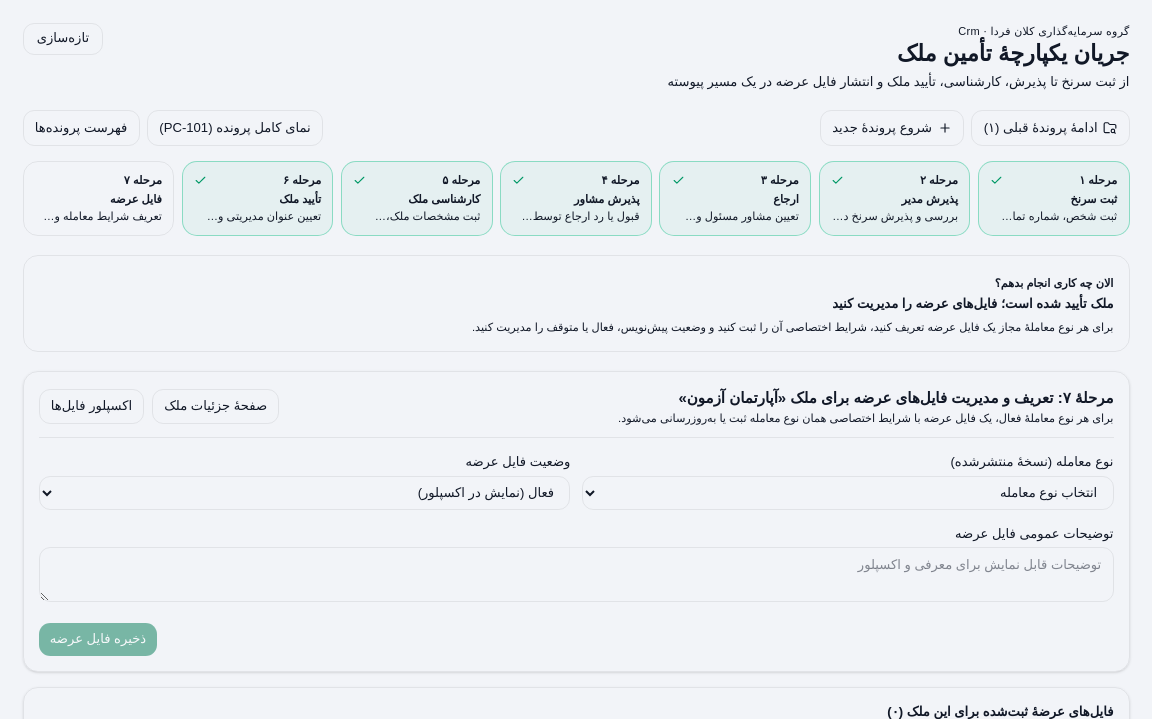
property registration listing step price fields › blocks the submit with a Persian message when a required amount is missing
Expected: the heading "مرحلهٔ ۷: تعریف و مدیریت فایل" is shown, [778,389,1114,406]
Step 1. Select "فروش" in the dropdown labelled "نوع معامله (نسخهٔ منتشرشده)" → point(848, 493), box [582,476,1114,510]
(page scrolled)
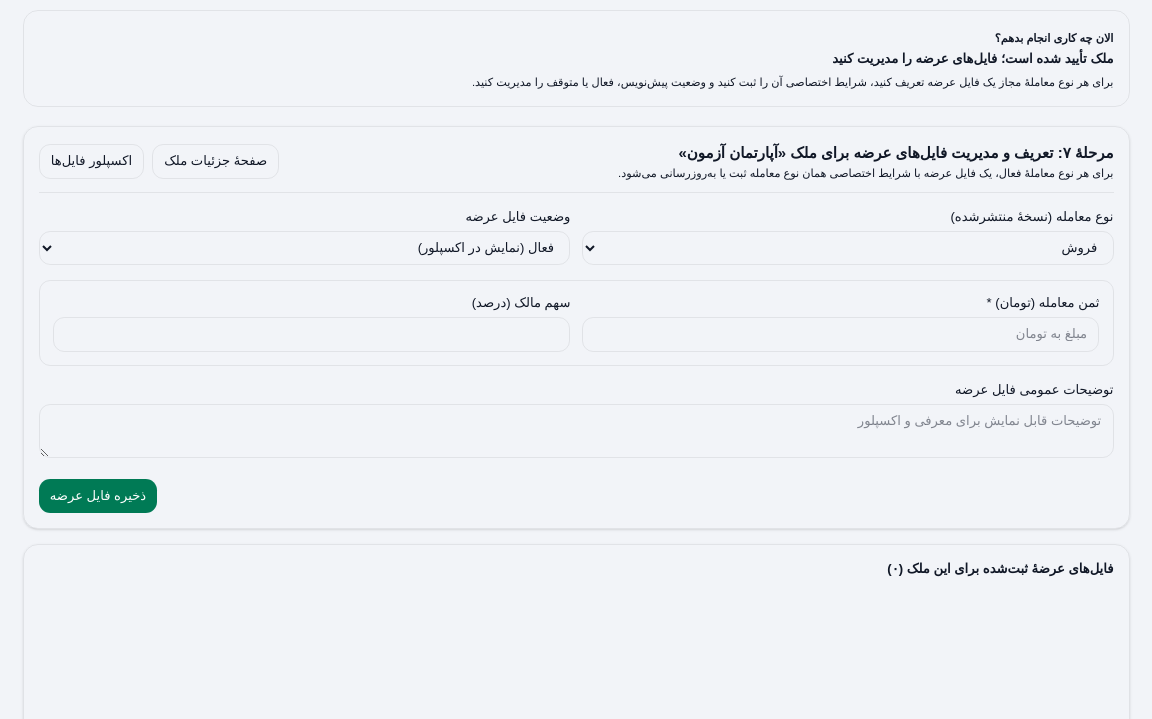
Expected: the field with placeholder "مبلغ به تومان" is shown, [582,316,1099,352]
Step 2. Submit the form named "ذخیره فایل عرضه", box [38,208,1114,513]
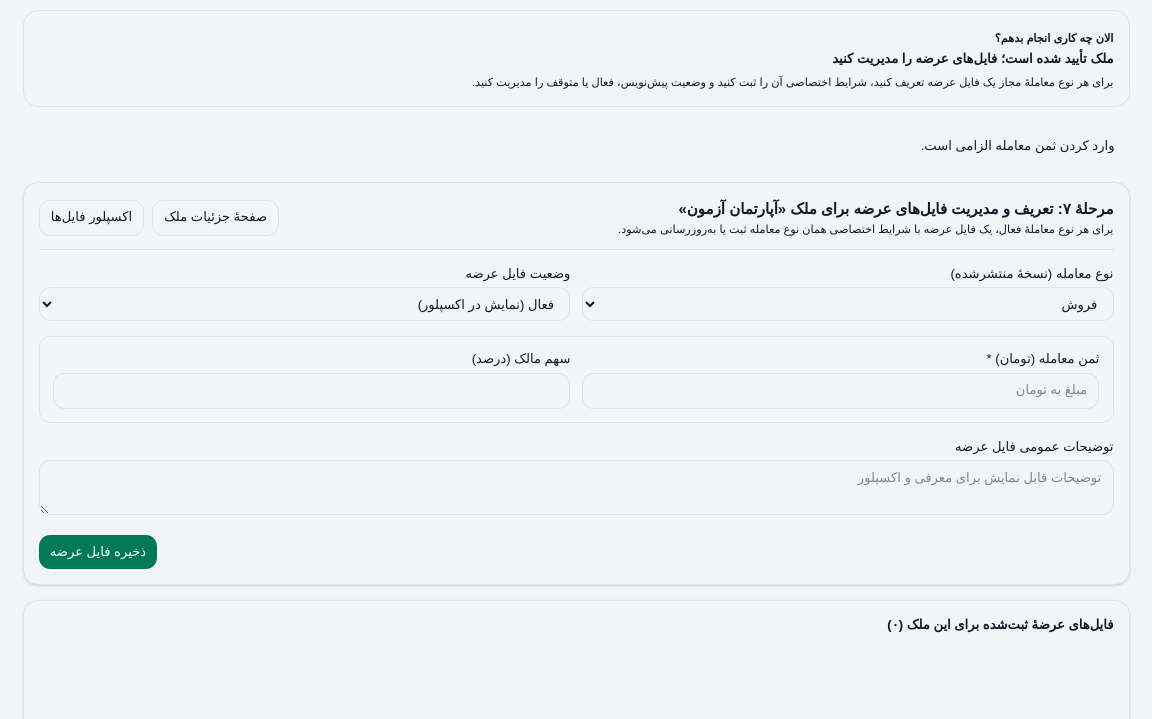
Expected: the text "وارد کردن ثمن معامله الزامی است." is shown, [921,138,1114,153]
